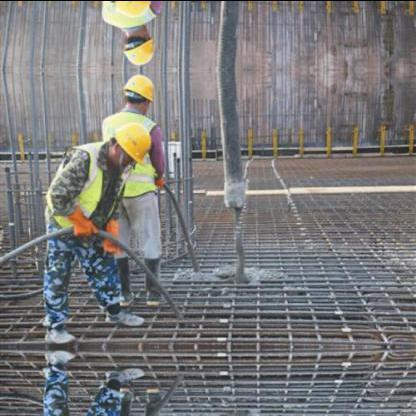Helmet: (95, 109, 159, 173), (95, 0, 160, 28), (120, 71, 158, 113), (120, 23, 158, 65)
